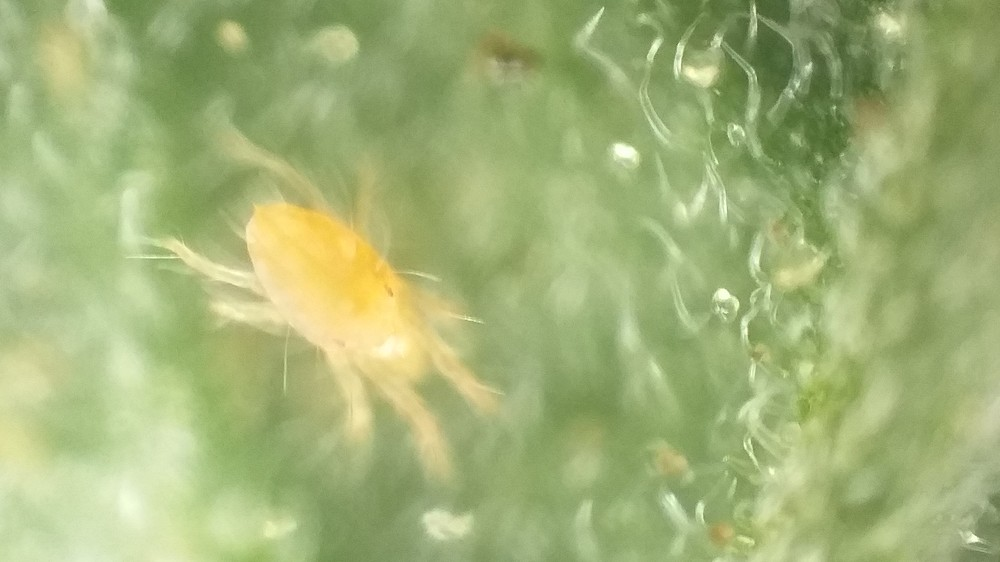Aracnido Rojo: (150, 102, 538, 510)
